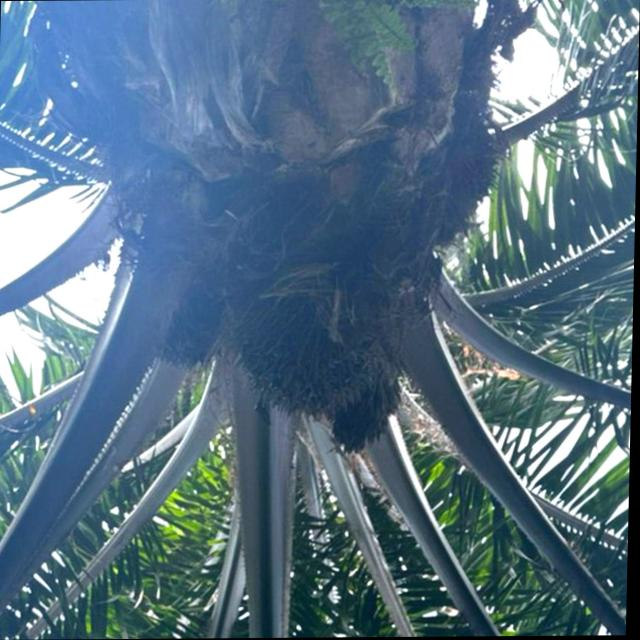almost: (230, 255, 398, 428)
